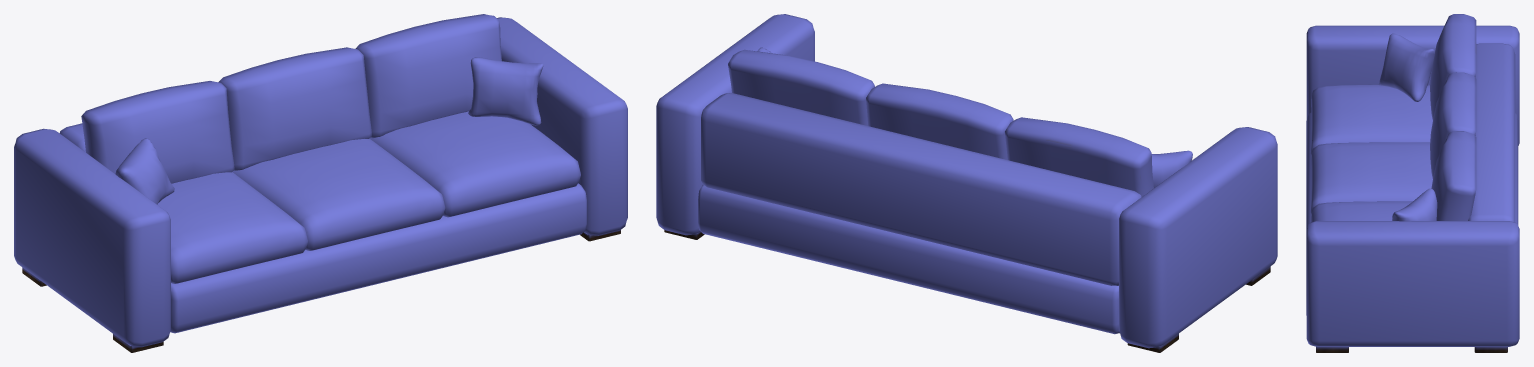
The model's file is sofa - 7177d8.glb.
The picture shows the model from 3 angles, left to right: view 1: azimuth 30°, elevation 25°; view 2: azimuth 150°, elevation 25°; view 3: azimuth 270°, elevation 25°; orthographic projection. The views are drawn at different scales.
Parts seen in each view (by area): view 1: node_id7; view 2: node_id7; view 3: node_id7.
Part boxes in pixels (<box>): node_id7: <box>14,14,627,352</box>; node_id7: <box>656,14,1277,352</box>; node_id7: <box>1306,14,1519,352</box>.
Size of the model in its own units: 0.512 by 0.1688 by 0.2147.
Materials: 1 (1 with a texture image).
